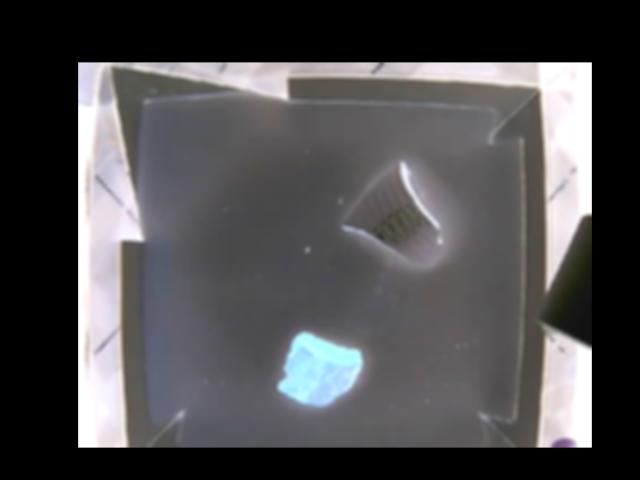Brisk: (278, 327, 363, 408)
China: (340, 163, 444, 267)
